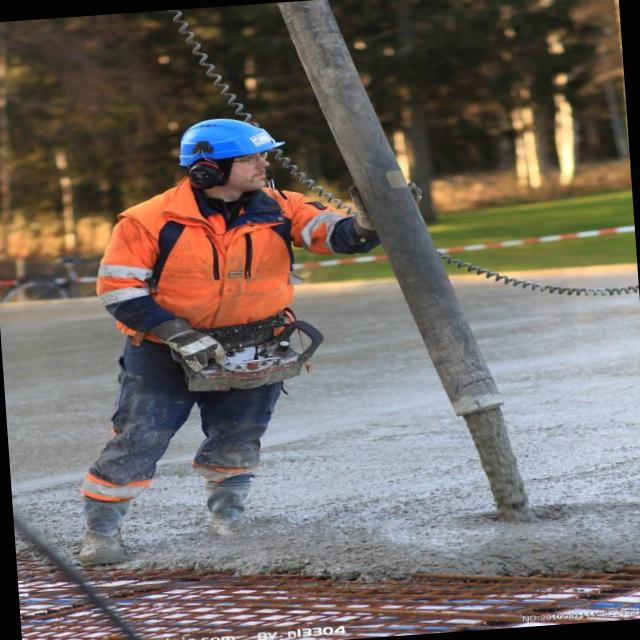goggles: (210, 146, 294, 168)
helmet: (162, 112, 281, 170)
vest: (86, 181, 350, 378)
